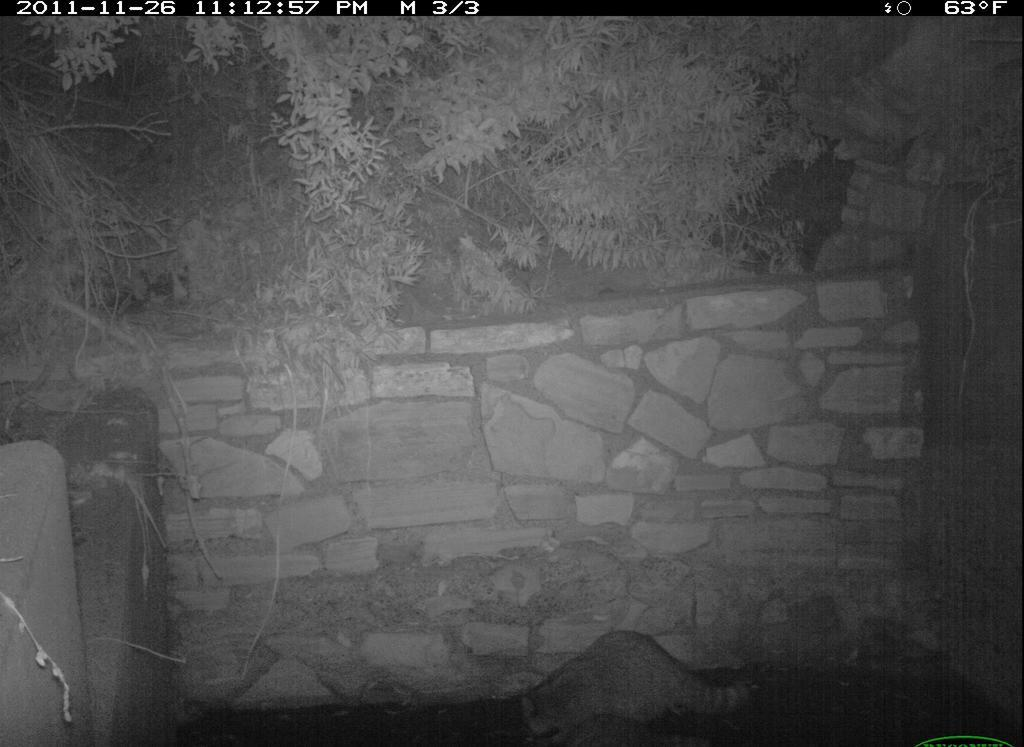raccoon: (519, 623, 760, 745)
